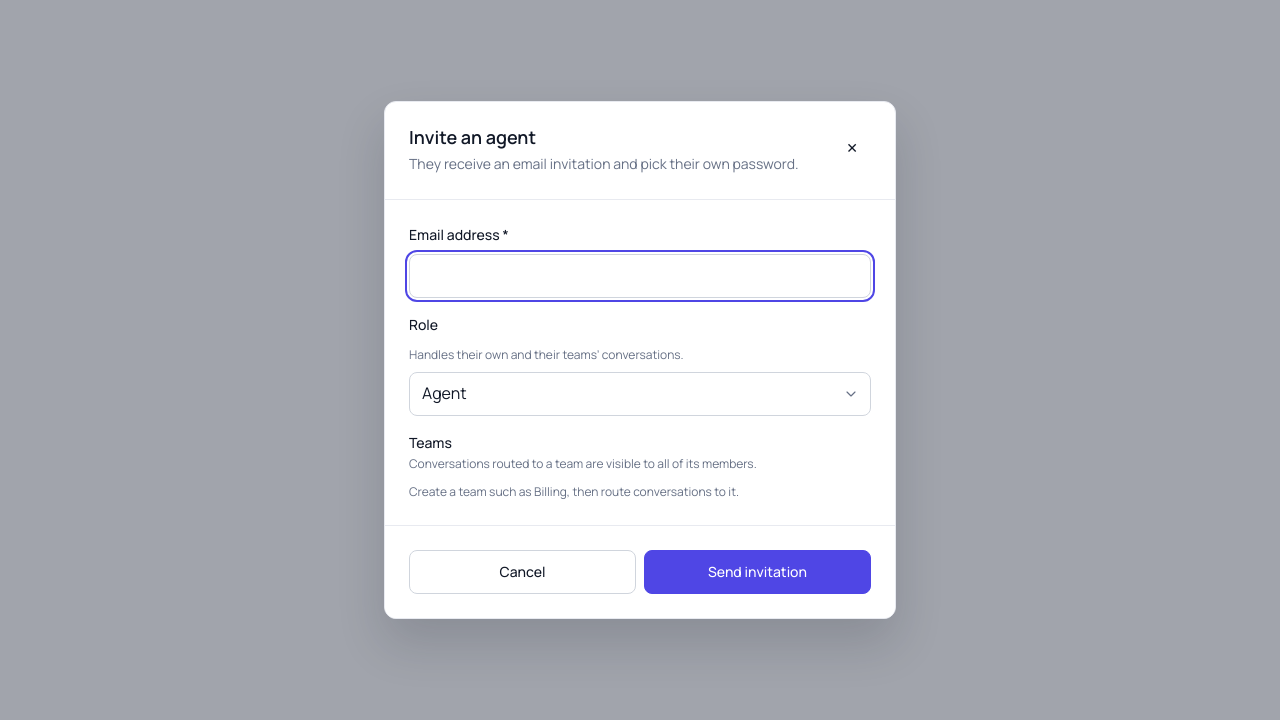
Test case: InviteAgentDialog › adds the way out once the seat cap is what refused it
This screenshot has width=1280, height=720.
Type "newcomer@northwind.example" into the field labelled "Email address *". click: (640, 276)
box: [409, 254, 871, 298]
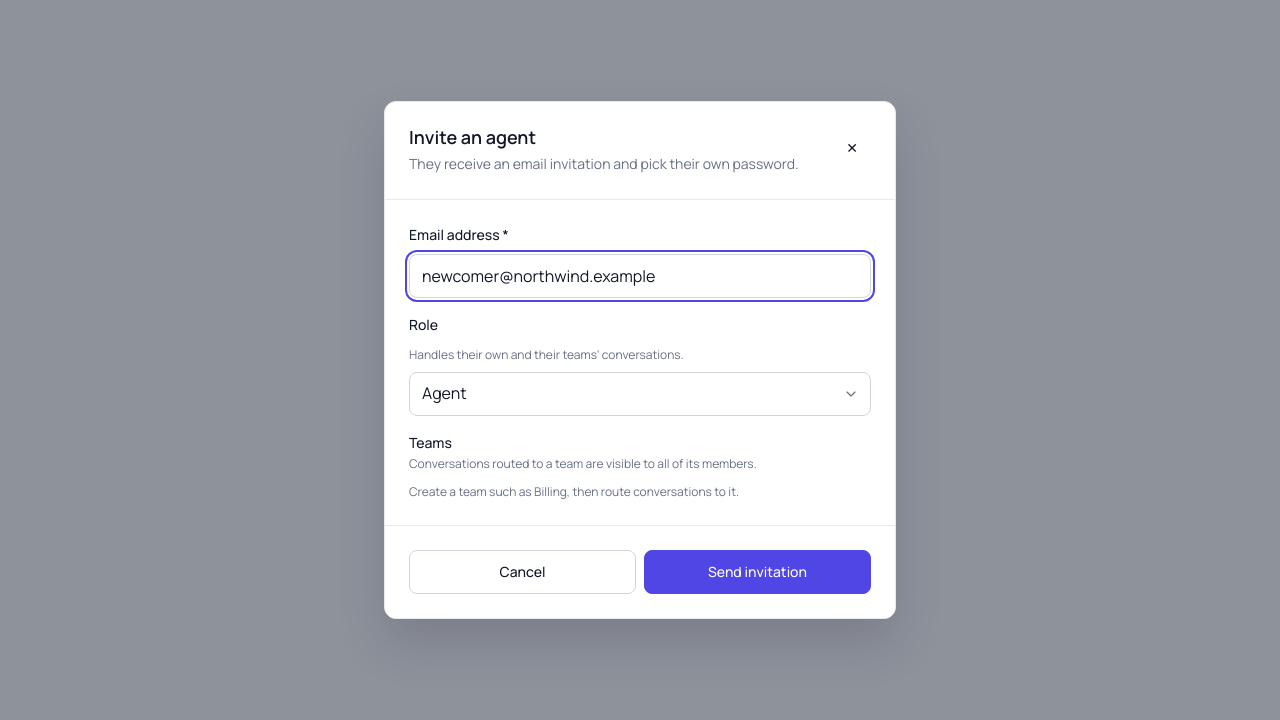
Click the button "Send invitation". click: (758, 572)
box: [644, 550, 871, 594]
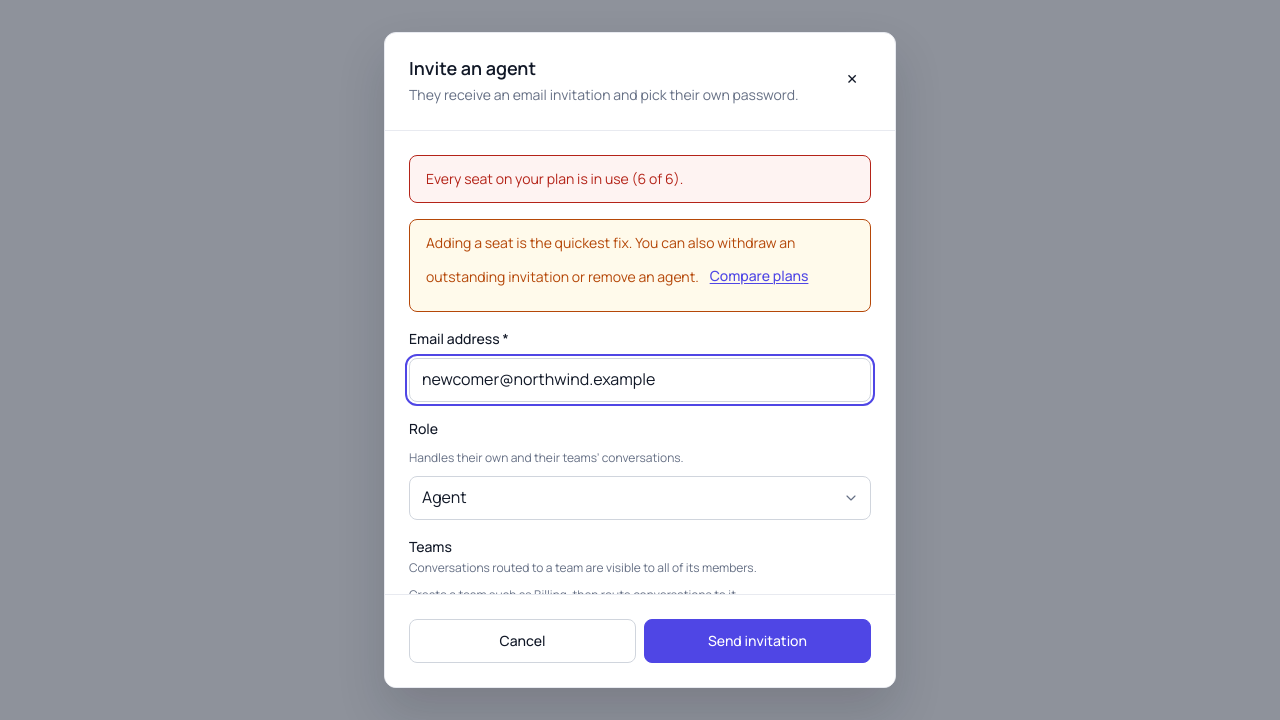
Now the text "Adding a seat is the quickest fix. You can also withdraw an outstanding invitation or remove an agent." is shown, box [426, 233, 795, 286]
